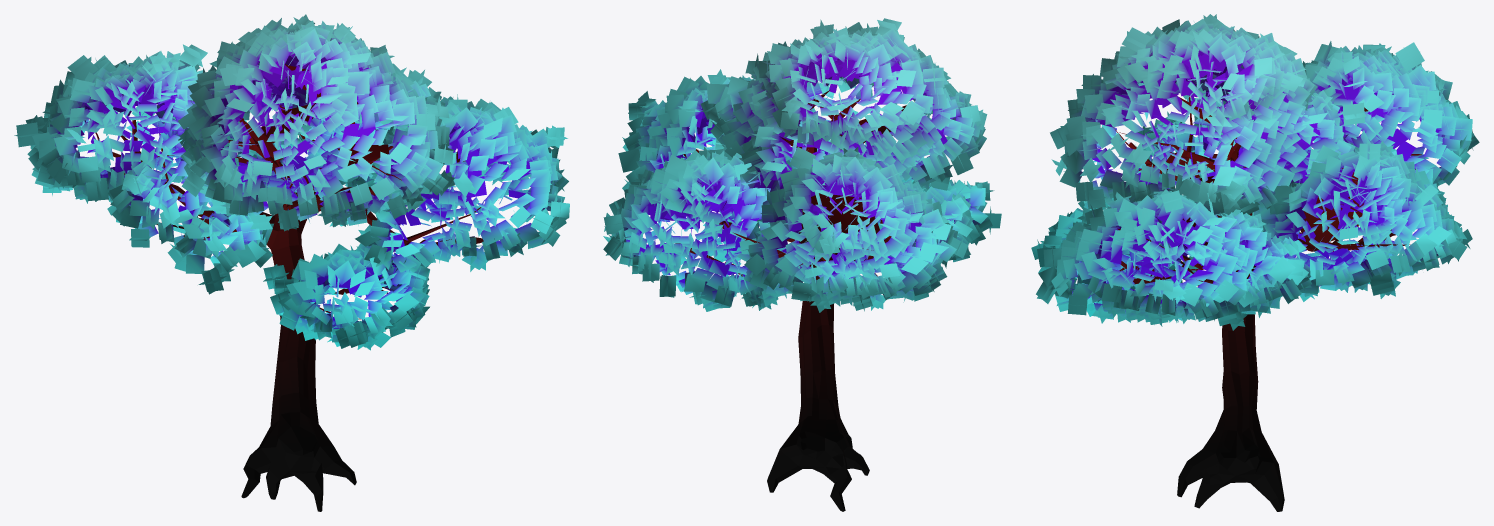
File: SM_Env_Tree_Forest_03.gltf
3 renders of one model, left to right at view 1: azimuth 30°, elevation 25°; view 2: azimuth 150°, elevation 25°; view 3: azimuth 270°, elevation 25°, orthographic. The views are drawn at different scales.
Parts seen in each view (by area): view 1: SM_Env_Tree_Forest_03_LOD0, SM_Env_Tree_Forest_03_Branches_LOD0; view 2: SM_Env_Tree_Forest_03_LOD0, SM_Env_Tree_Forest_03_Branches_LOD0; view 3: SM_Env_Tree_Forest_03_LOD0, SM_Env_Tree_Forest_03_Branches_LOD0.
Boxes of the visible parts, x1,y1,x2,y2 form: SM_Env_Tree_Forest_03_LOD0: (14,14,569,511); SM_Env_Tree_Forest_03_Branches_LOD0: (95,64,483,319); SM_Env_Tree_Forest_03_LOD0: (603,18,1001,511); SM_Env_Tree_Forest_03_Branches_LOD0: (675,85,906,276); SM_Env_Tree_Forest_03_LOD0: (1031,14,1479,511); SM_Env_Tree_Forest_03_Branches_LOD0: (1102,95,1415,284).
Bounding box in the file's own units: 9.64 × 10.11 × 8.67.
